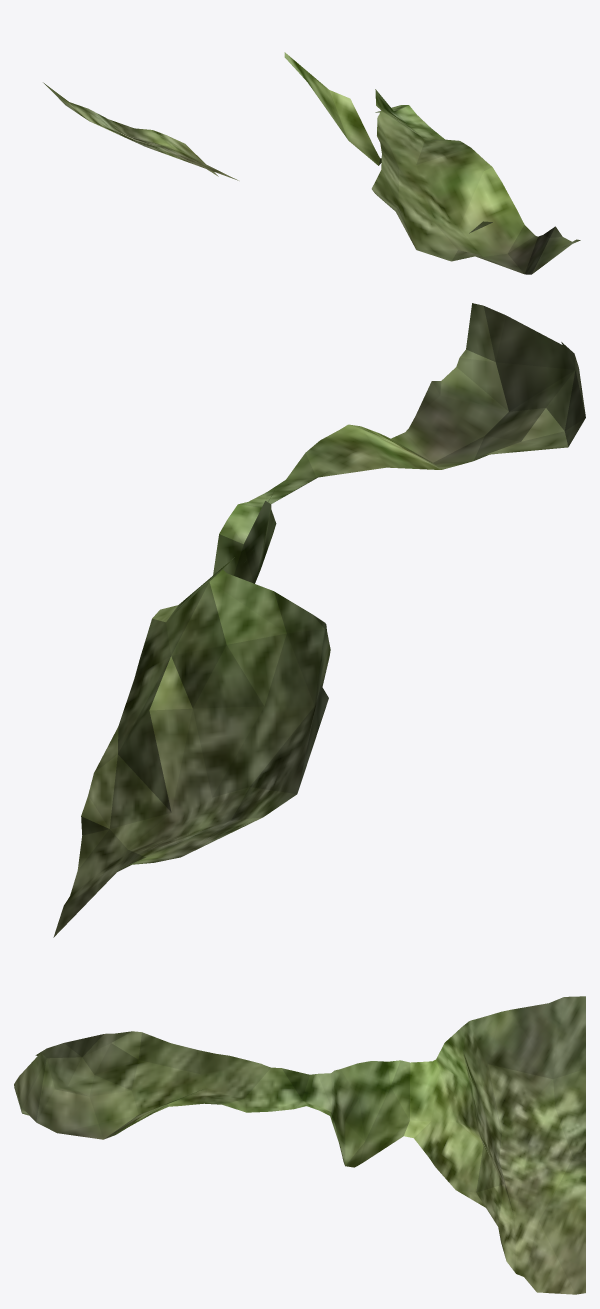
3 renders of one model, top to bottom at view 1: azimuth 30°, elevation 25°; view 2: azimuth 150°, elevation 25°; view 3: azimuth 270°, elevation 25°, orthographic. The views are drawn at different scales.
Size of the model in its own units: 0.746 by 0.7898 by 1.98.
1 material, 1 textured.
